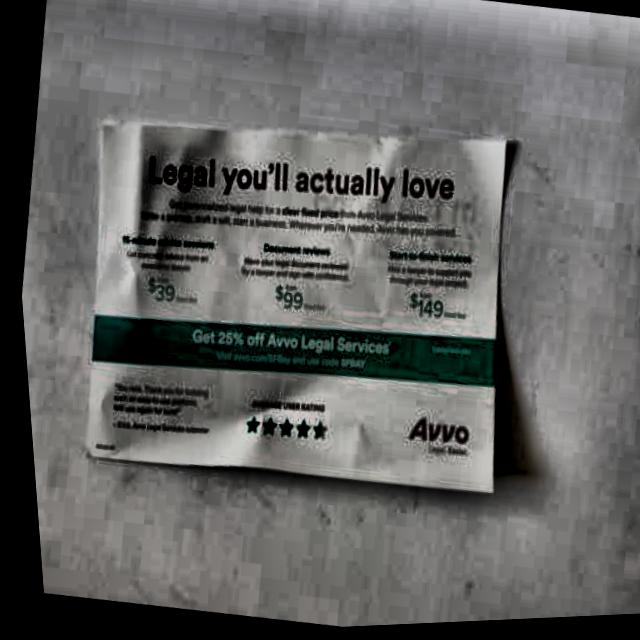Paper: (31, 73, 549, 539)
